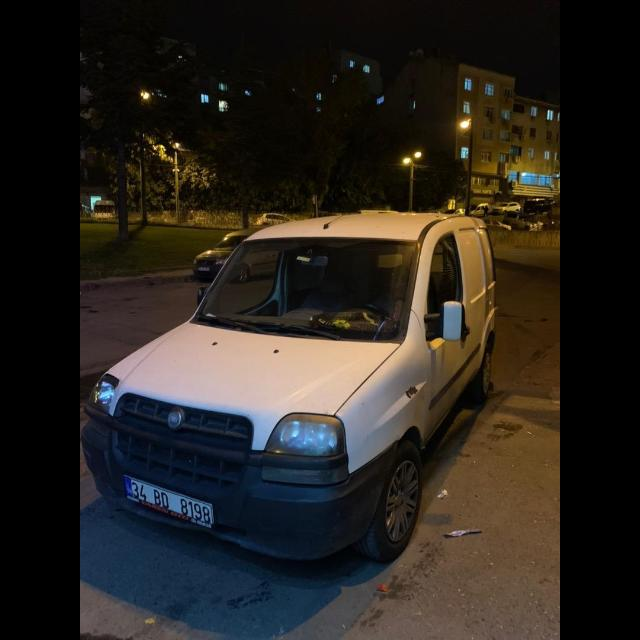Plaka: (125, 476, 213, 524)
